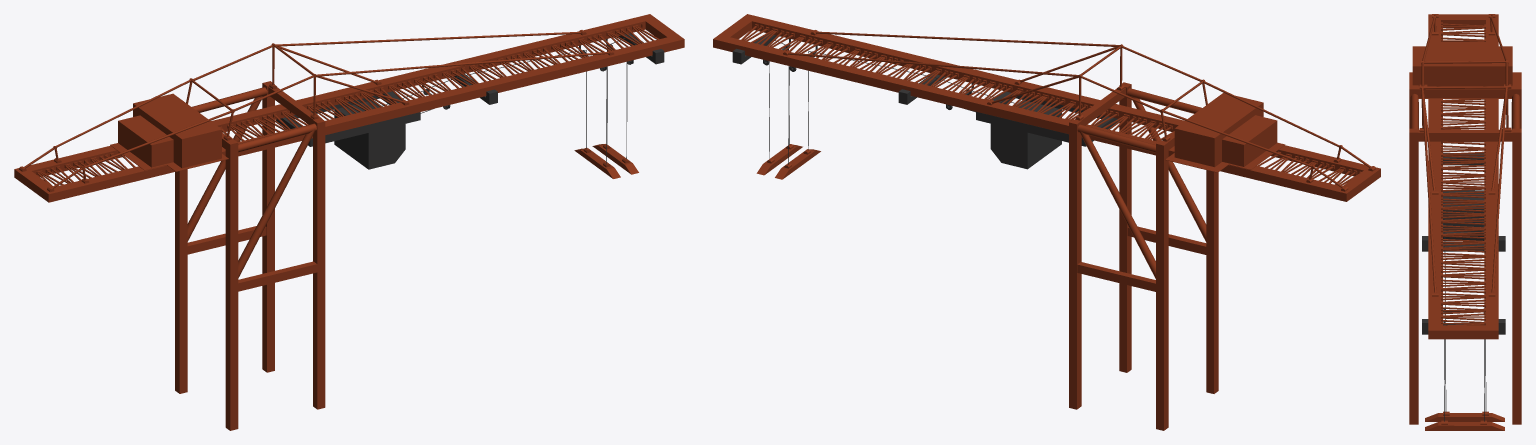
The model's file is crane.fbx.
3 renders of one model, left to right at view 1: azimuth 30°, elevation 25°; view 2: azimuth 150°, elevation 25°; view 3: azimuth 270°, elevation 25°, orthographic. The views are drawn at different scales.
Parts seen in each view (by area): view 1: crane; view 2: crane; view 3: crane.
Boxes of the visible parts, x1,y1,x2,y2 form: crane: (14, 14, 684, 430); crane: (713, 14, 1380, 430); crane: (1409, 14, 1521, 430).
Bounding box in the file's own units: 1458 × 723 × 219.
